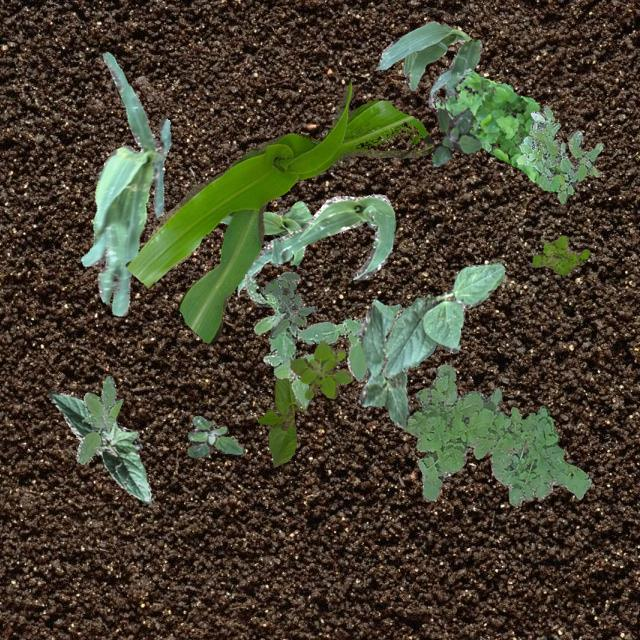crop: (125, 80, 432, 342), (80, 52, 170, 314), (236, 192, 394, 296), (382, 262, 504, 376), (46, 390, 150, 502), (374, 19, 482, 108), (358, 298, 411, 426), (218, 200, 312, 266), (256, 376, 306, 466)
weed: (400, 364, 590, 506), (244, 274, 401, 408), (434, 68, 568, 190), (516, 104, 602, 202), (74, 374, 122, 464), (289, 339, 352, 398), (262, 270, 316, 338), (430, 107, 480, 165), (186, 414, 244, 456), (532, 234, 588, 274)
